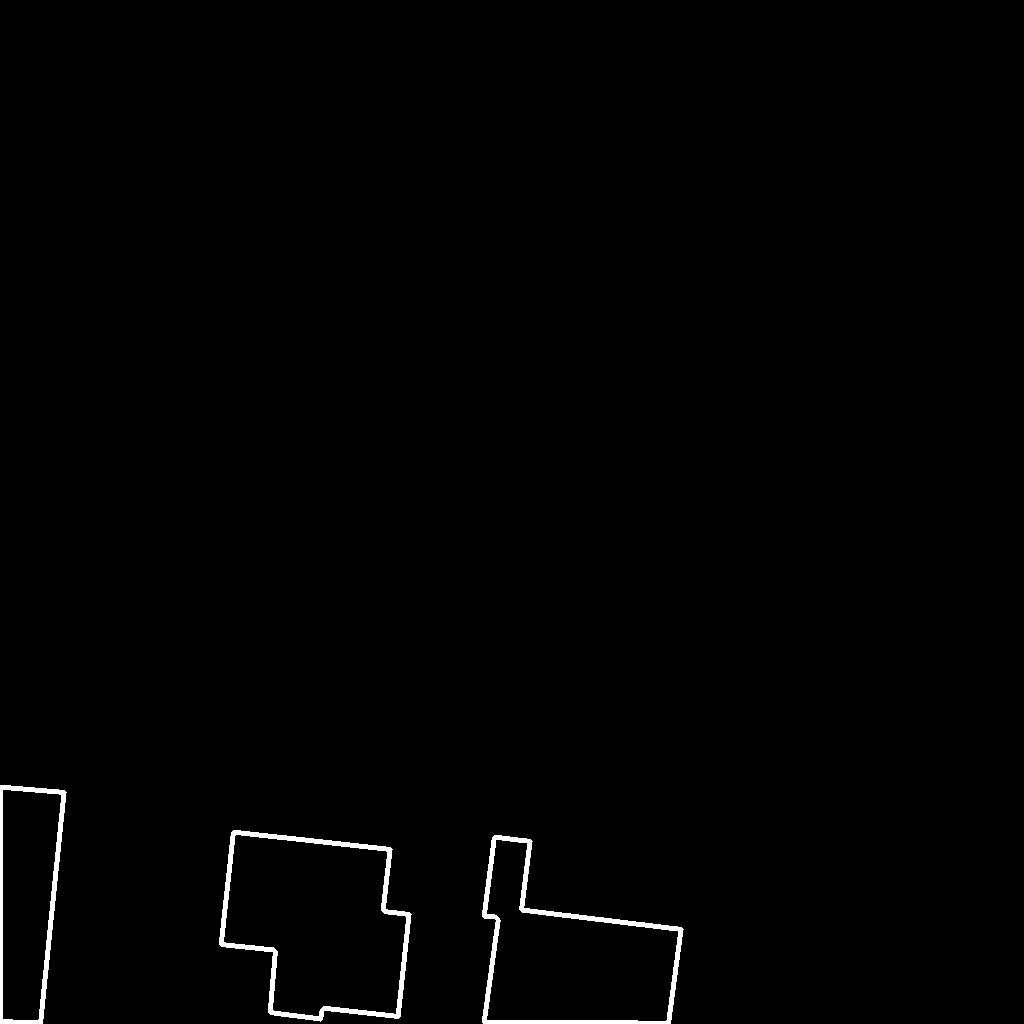building: (484, 837, 682, 1024), (221, 832, 410, 1020), (0, 787, 65, 1024)
